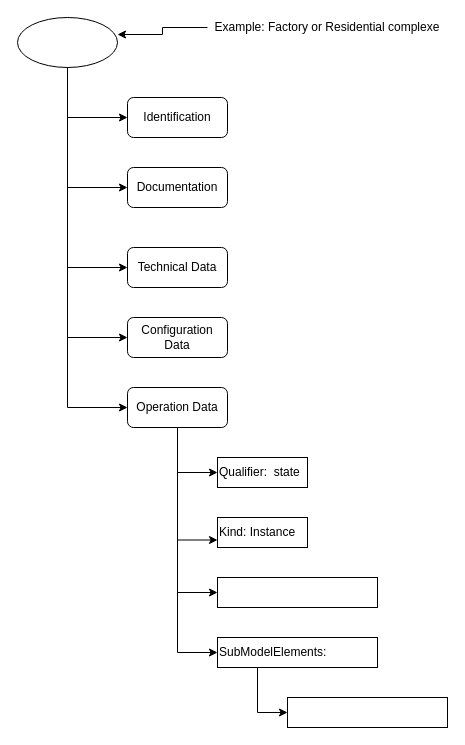
This 465x745 diagram has some shape labels left out. Each missing label, with the box of its shape:
Consumer: (16, 16, 118, 68)
Consumption: (286, 696, 448, 728)
Semantic Id: asdasdasd: (216, 576, 378, 608)
